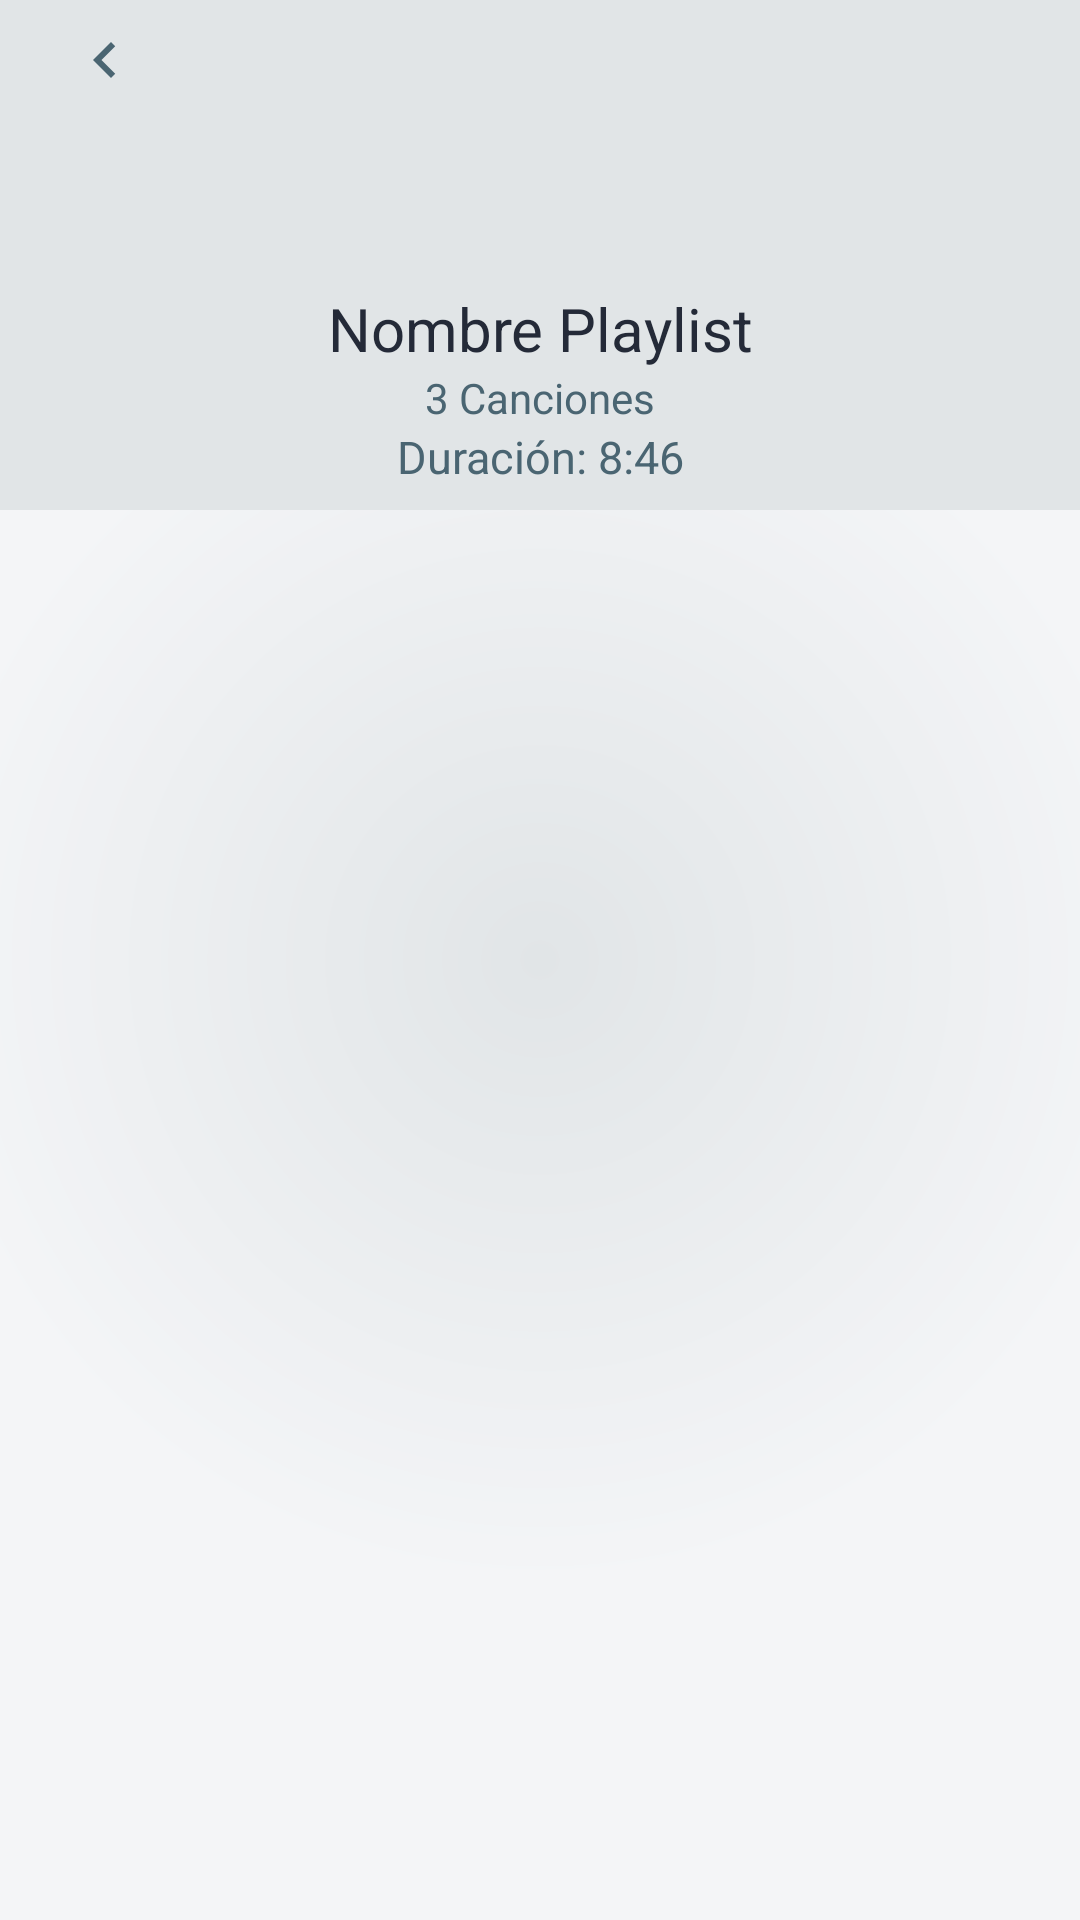

Locate icon controls on the screen. Image size 1080x1920, boxes as (x1, y1, x2, y2).
regresarplaylists: (93, 42, 115, 78)
